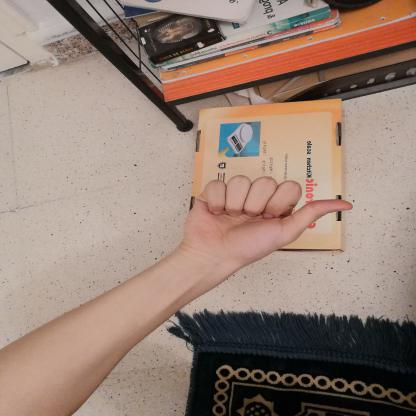DAD: (170, 170, 362, 268)
